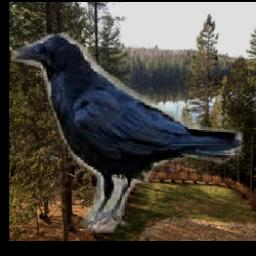Crow: (12, 33, 245, 233)
